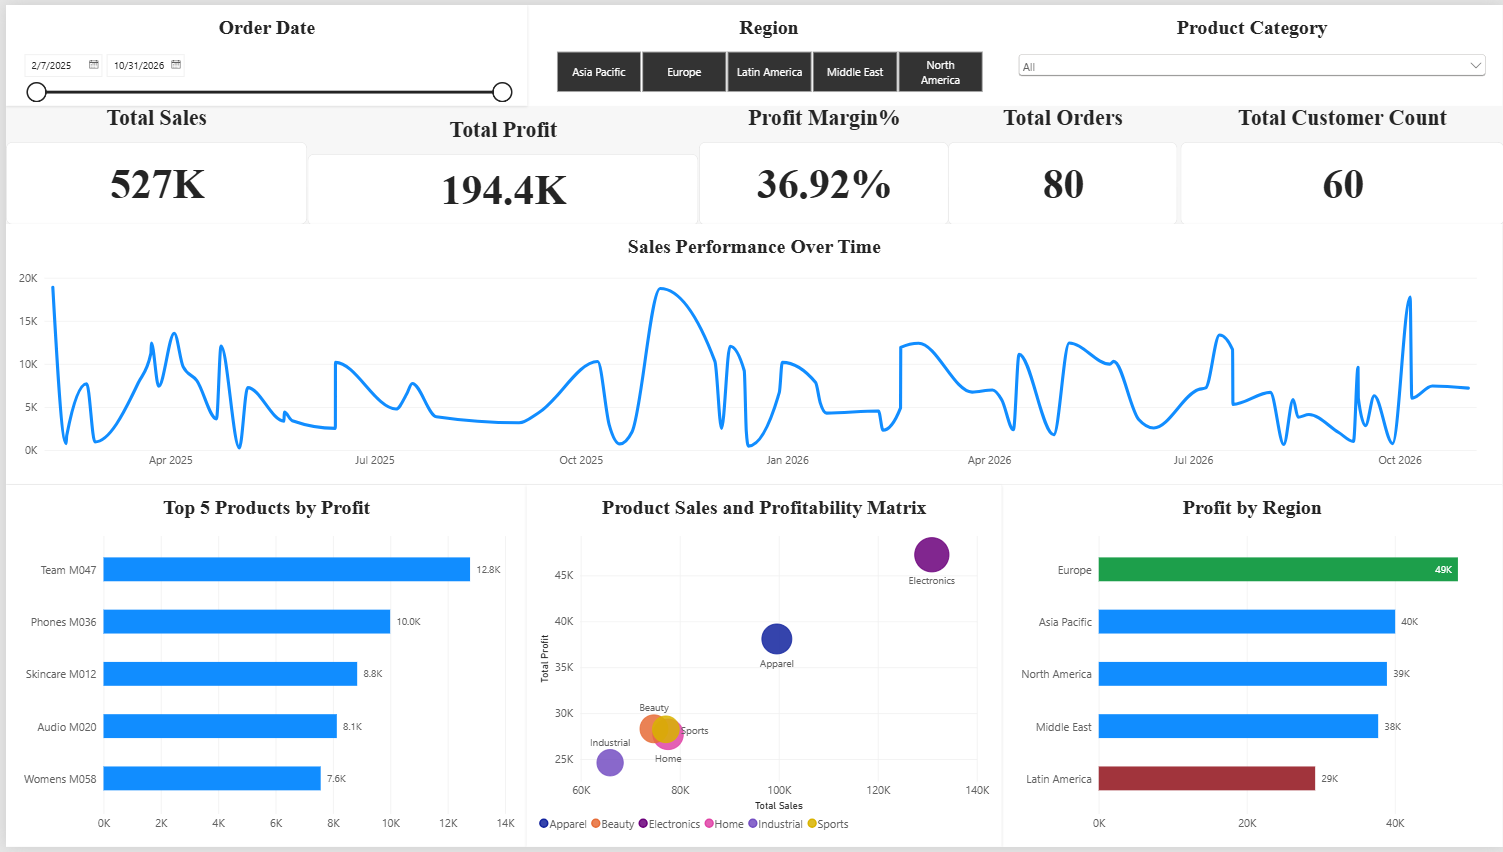

Layout of this report page (visuals, bound fields, positions):
{"tool":"powerbi","page":{"name":"Page 1","canvas":[1920,1080],"ordinal":0},"visuals":[{"type":"cardVisual","title":"Total Sales","fields":{"Data":["_measure.Total_Sales"]},"box":[0,129.4,386.3,152.9],"z":0},{"type":"cardVisual","title":"Total Orders","fields":{"Data":["_measure.Total_Orders"]},"box":[1208.5,129.8,294.7,153.8],"z":1000},{"type":"cardVisual","title":"Total Customer Count","fields":{"Data":["_measure.Total_Customer_Count"]},"box":[1505.1,129.8,415.2,153.8],"z":2000},{"type":"slicer","title":"Region","fields":{"Values":["dim_loc.Region"]},"box":[668.6,0,617.6,129.4],"z":3000},{"type":"cardVisual","title":"Profit Margin%","fields":{"Data":["_measure.Profit Margin %"]},"box":[887.9,129.8,320.7,153.8],"z":4000},{"type":"cardVisual","title":"Total Profit","fields":{"Data":["_measure.Total Profit"]},"box":[386.3,145.1,502,139.2],"z":5000},{"type":"lineChart","title":"Sales Performance Over Time","fields":{"Category":["fact_sales_2.Order_Date"],"Y":["Sum(fact_sales_2.Line_Total)"]},"box":[0,281.1,1918.9,334],"z":6000},{"type":"barChart","title":"Top 5 Products by Profit","fields":{"Category":["dim_products.Product_Name"],"Y":["_measure.Total_Profit"]},"box":[0,615.1,667.9,464.2],"z":7000},{"type":"barChart","title":"Profit by Region","fields":{"Category":["dim_loc.Region"],"Y":["_measure.Total_Profit"]},"box":[1277.4,615.1,641.5,464.2],"z":8000},{"type":"scatterChart","title":"Product Sales and Profitability Matrix","fields":{"Series":["dim_products.Category"],"Size":["Sum(fact_sales_2.Quantity)"],"X":["Sum(fact_sales_2.Line_Total)"],"Y":["_measure.Total_Profit"]},"box":[667.9,615.1,609.4,464.2],"z":9000},{"type":"slicer","title":"Order Date","fields":{"Values":["fact_sales_2.Order_Date"]},"box":[0,0,668.6,129.4],"z":10000},{"type":"slicer","title":"Product Category","fields":{"Values":["dim_products.Category"]},"box":[1276.5,0,641.2,129.4],"z":11000}]}

Visuals, with their boxes in screenshot pixels (x1, y1, x2, y2), scaled from the page's 1920x1080 canvas onto the 1503x852 screenshot:
"Total Sales" cardVisual: rect(0, 102, 302, 223)
"Total Orders" cardVisual: rect(946, 102, 1177, 224)
"Total Customer Count" cardVisual: rect(1178, 102, 1502, 224)
"Region" slicer: rect(523, 0, 1007, 102)
"Profit Margin%" cardVisual: rect(695, 102, 946, 224)
"Total Profit" cardVisual: rect(302, 114, 695, 224)
"Sales Performance Over Time" lineChart: rect(0, 222, 1502, 485)
"Top 5 Products by Profit" barChart: rect(0, 485, 523, 851)
"Profit by Region" barChart: rect(1000, 485, 1502, 851)
"Product Sales and Profitability Matrix" scatterChart: rect(523, 485, 1000, 851)
"Order Date" slicer: rect(0, 0, 523, 102)
"Product Category" slicer: rect(999, 0, 1501, 102)
